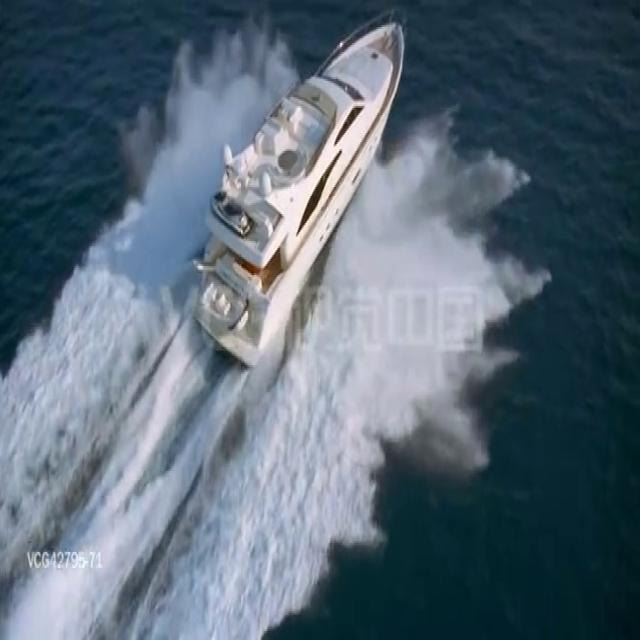houseboat: (200, 2, 410, 369)
